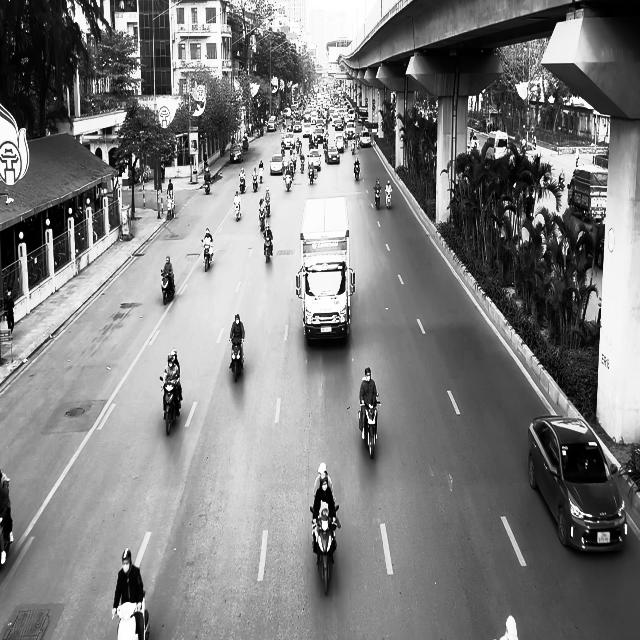car: (527, 414, 628, 554), (324, 144, 340, 164), (270, 154, 283, 175), (230, 144, 243, 162)
motorbike: (310, 502, 340, 596), (358, 397, 380, 459), (160, 376, 182, 435), (229, 338, 244, 382), (160, 270, 176, 304), (201, 239, 213, 271), (262, 232, 272, 263), (167, 194, 176, 220), (374, 186, 382, 209), (259, 208, 267, 230), (234, 199, 241, 221), (353, 159, 360, 181), (308, 166, 316, 184), (385, 189, 392, 209), (252, 175, 258, 192), (204, 177, 210, 194)
truck: (296, 196, 356, 346), (567, 163, 608, 222)
